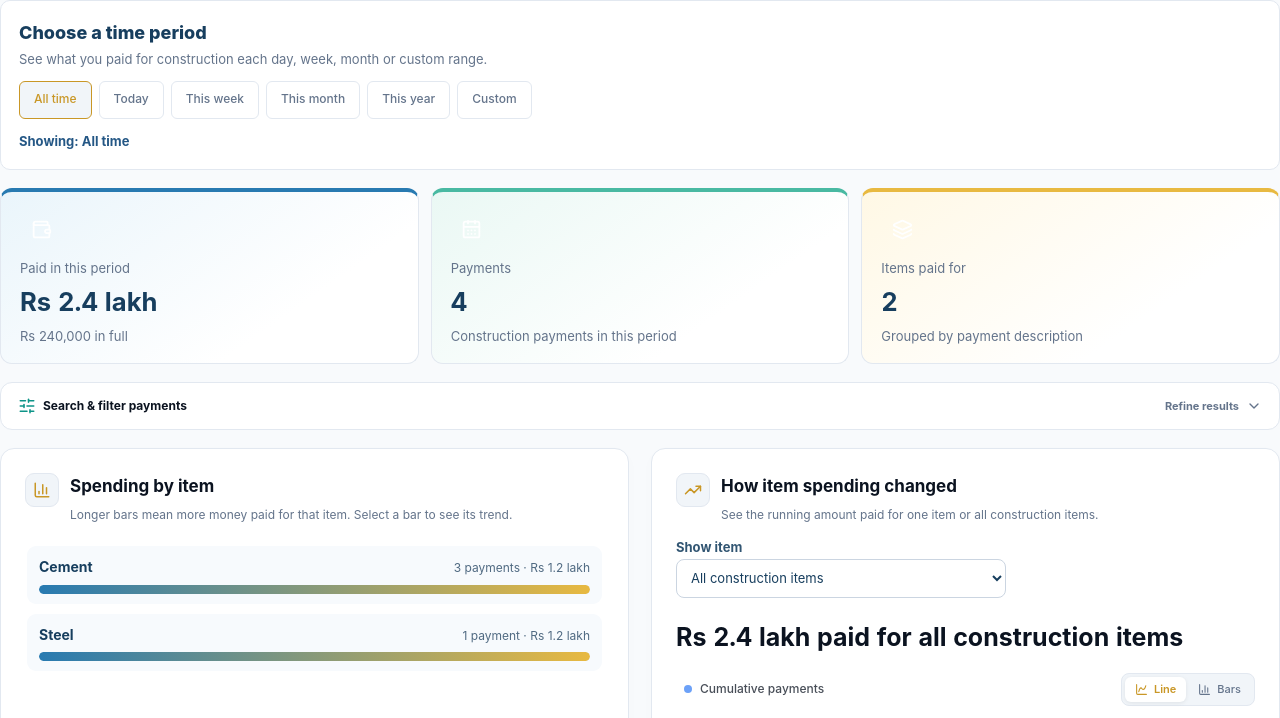
Scenario: ConstructionCostInsights › filters item bars, trend and payments by the selected dates
Step 1. Click the button "Custom" → (494, 100), box [457,81,532,119]
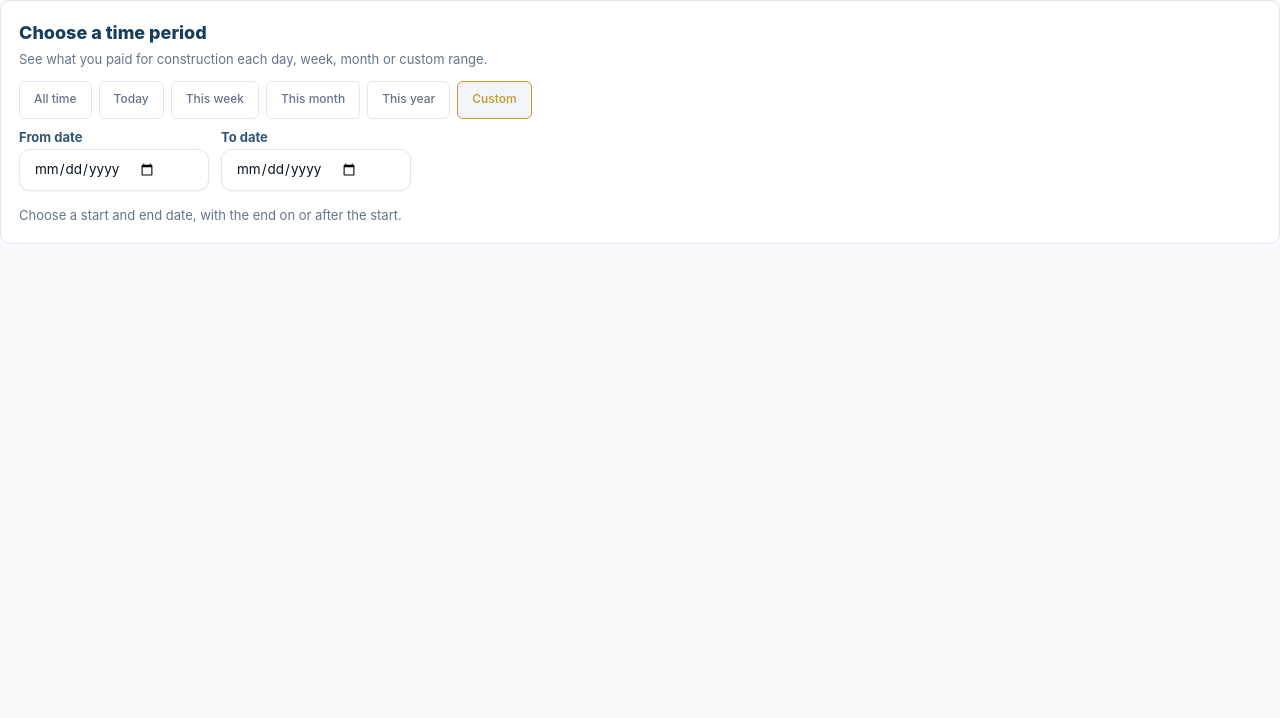
Step 2. Type "2026-09-25" into the date field labelled "From date" → (114, 170), box [19,149,209,191]
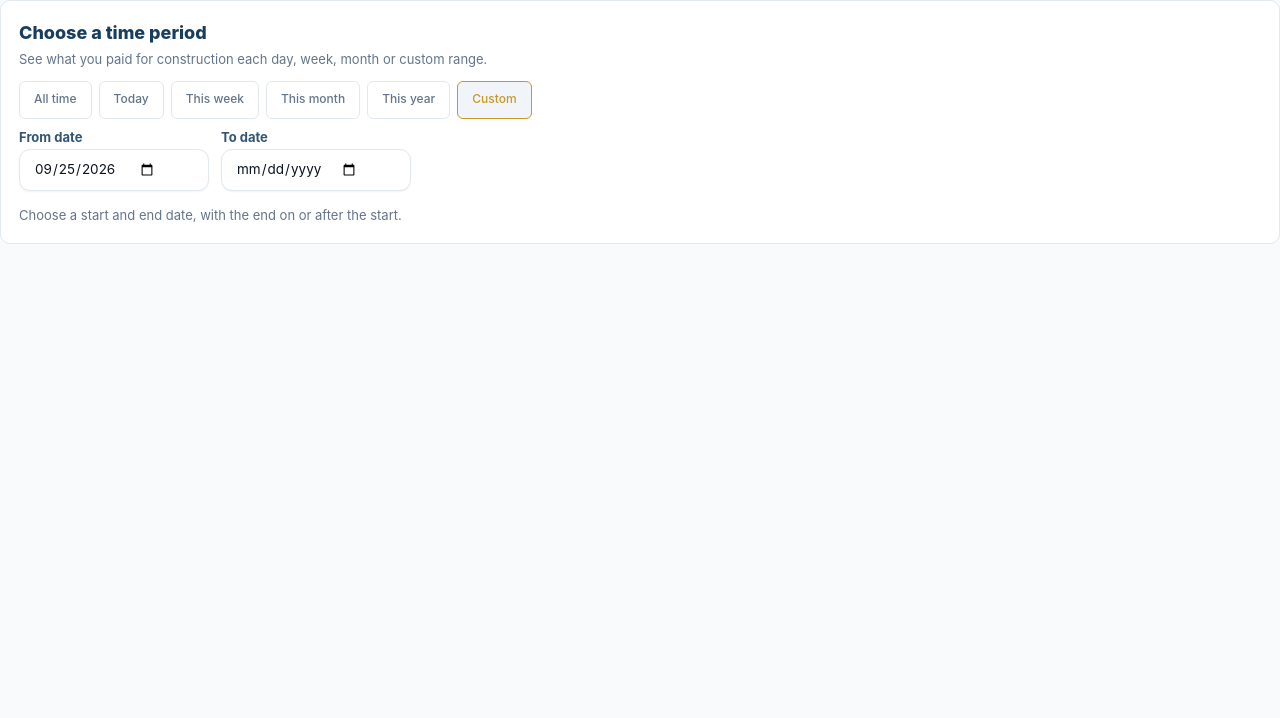
Step 3. Type "2026-09-27" into the date field labelled "To date" → (316, 170), box [221,149,411,191]
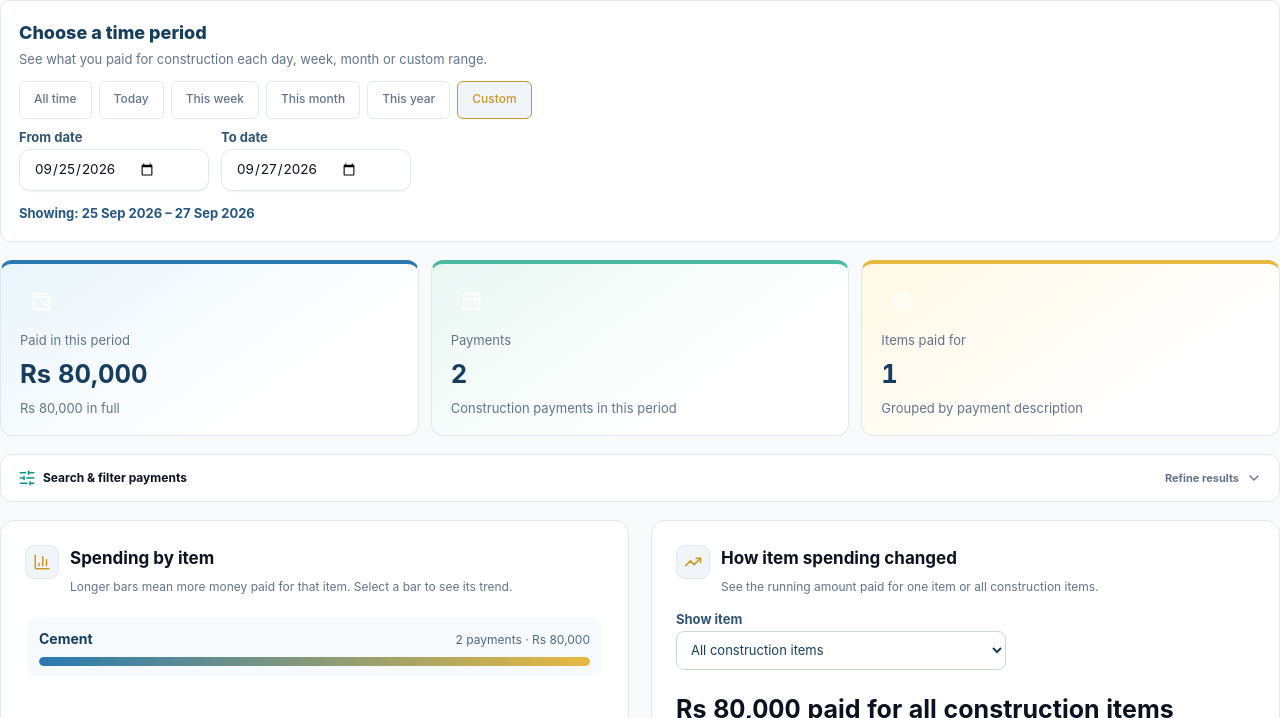
Check: the button "Steel" is not shown
Check: the button "Cement 2 payments · Rs 80,000" is shown, box [27,618,602,676]
Check: the text "Rs 80,000" is shown, box [20,358,148,389]
